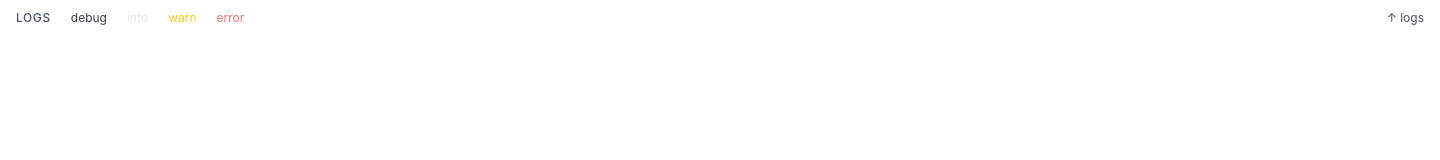
Test: LogPanel › expands when the toggle button is clicked
Click the button "↑ logs". click: (1405, 18)
box: [1387,10,1424,26]
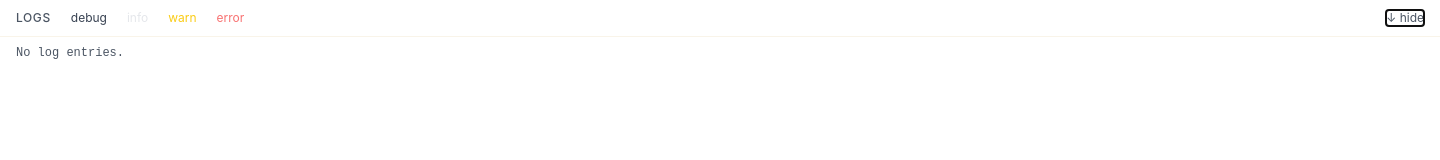
Expected: the text "No log entries." is shown, [16,46,124,60]
